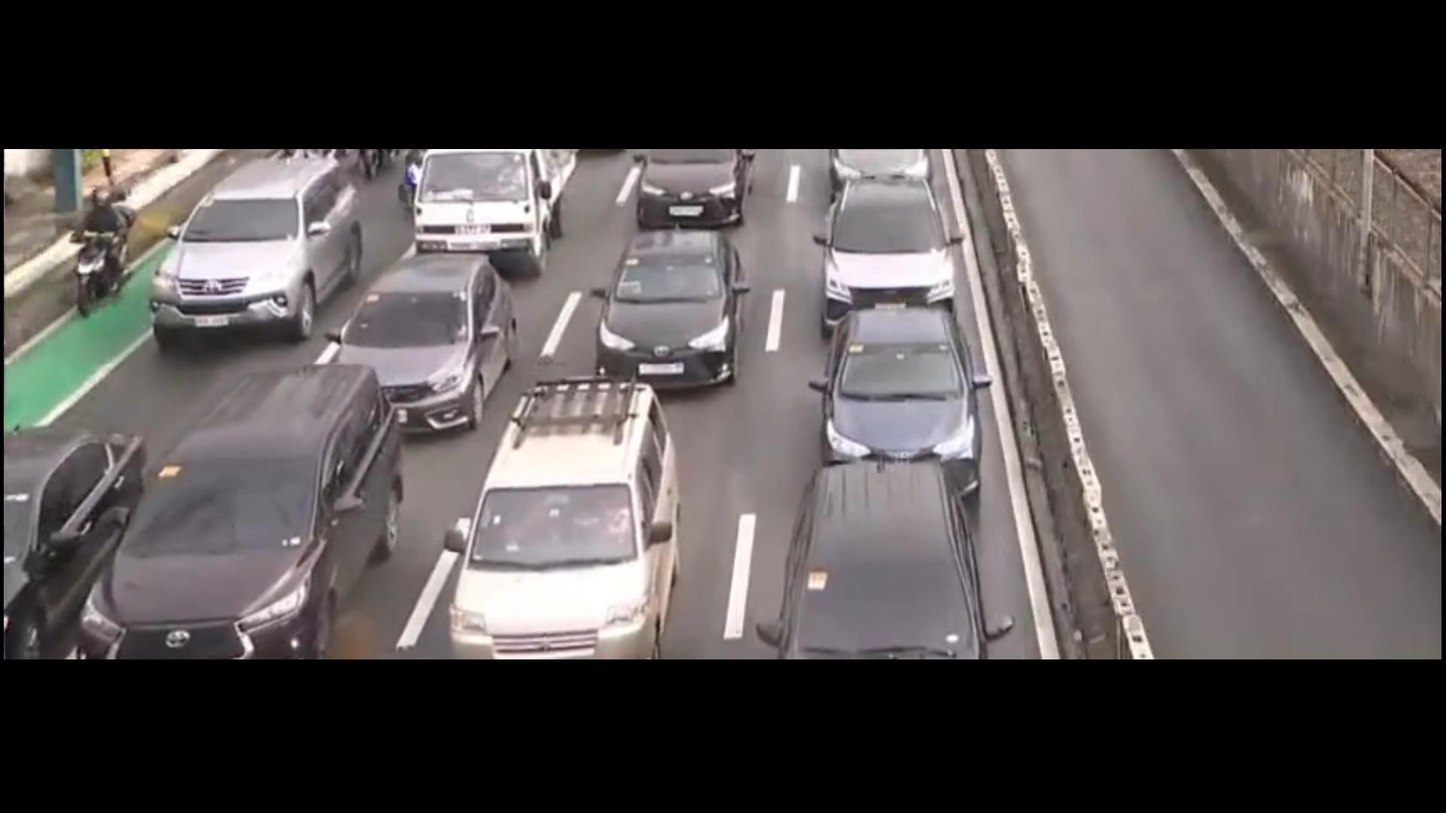Motorcycle: (58, 183, 130, 320)
SUV: (88, 373, 390, 642), (454, 386, 680, 649), (768, 469, 1005, 662), (147, 167, 356, 335), (815, 183, 958, 314)
Sedan: (0, 420, 143, 649), (329, 260, 501, 444), (819, 318, 990, 502), (599, 231, 747, 393), (621, 145, 759, 224)
Truck: (409, 147, 586, 277)
